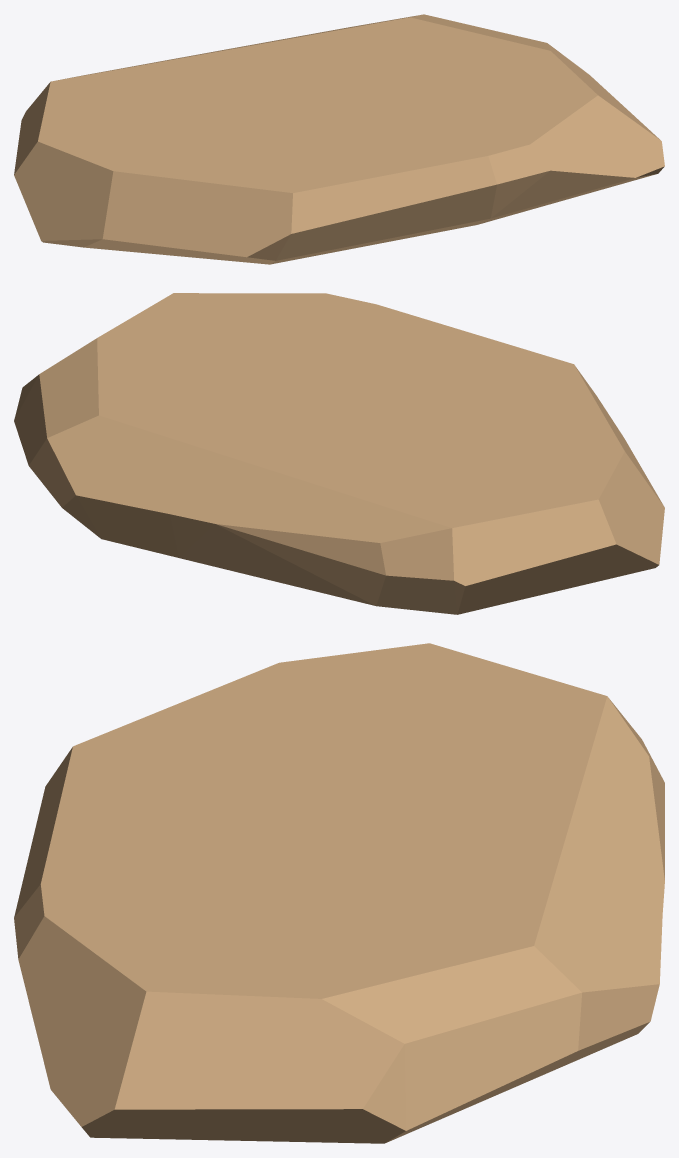
The model's file is Rock_Flat_m_13.fbx.
3 renders of one model, top to bottom at view 1: azimuth 30°, elevation 25°; view 2: azimuth 150°, elevation 25°; view 3: azimuth 270°, elevation 25°, orthographic. The views are drawn at different scales.
Parts seen in each view (by area): view 1: Rock_Flat_m_13; view 2: Rock_Flat_m_13; view 3: Rock_Flat_m_13.
Boxes of the visible parts, x1,y1,x2,y2 form: Rock_Flat_m_13: (14, 14, 664, 264); Rock_Flat_m_13: (14, 293, 664, 614); Rock_Flat_m_13: (14, 643, 664, 1143).
Bounding box in the file's own units: 150 × 19.46 × 99.93.
